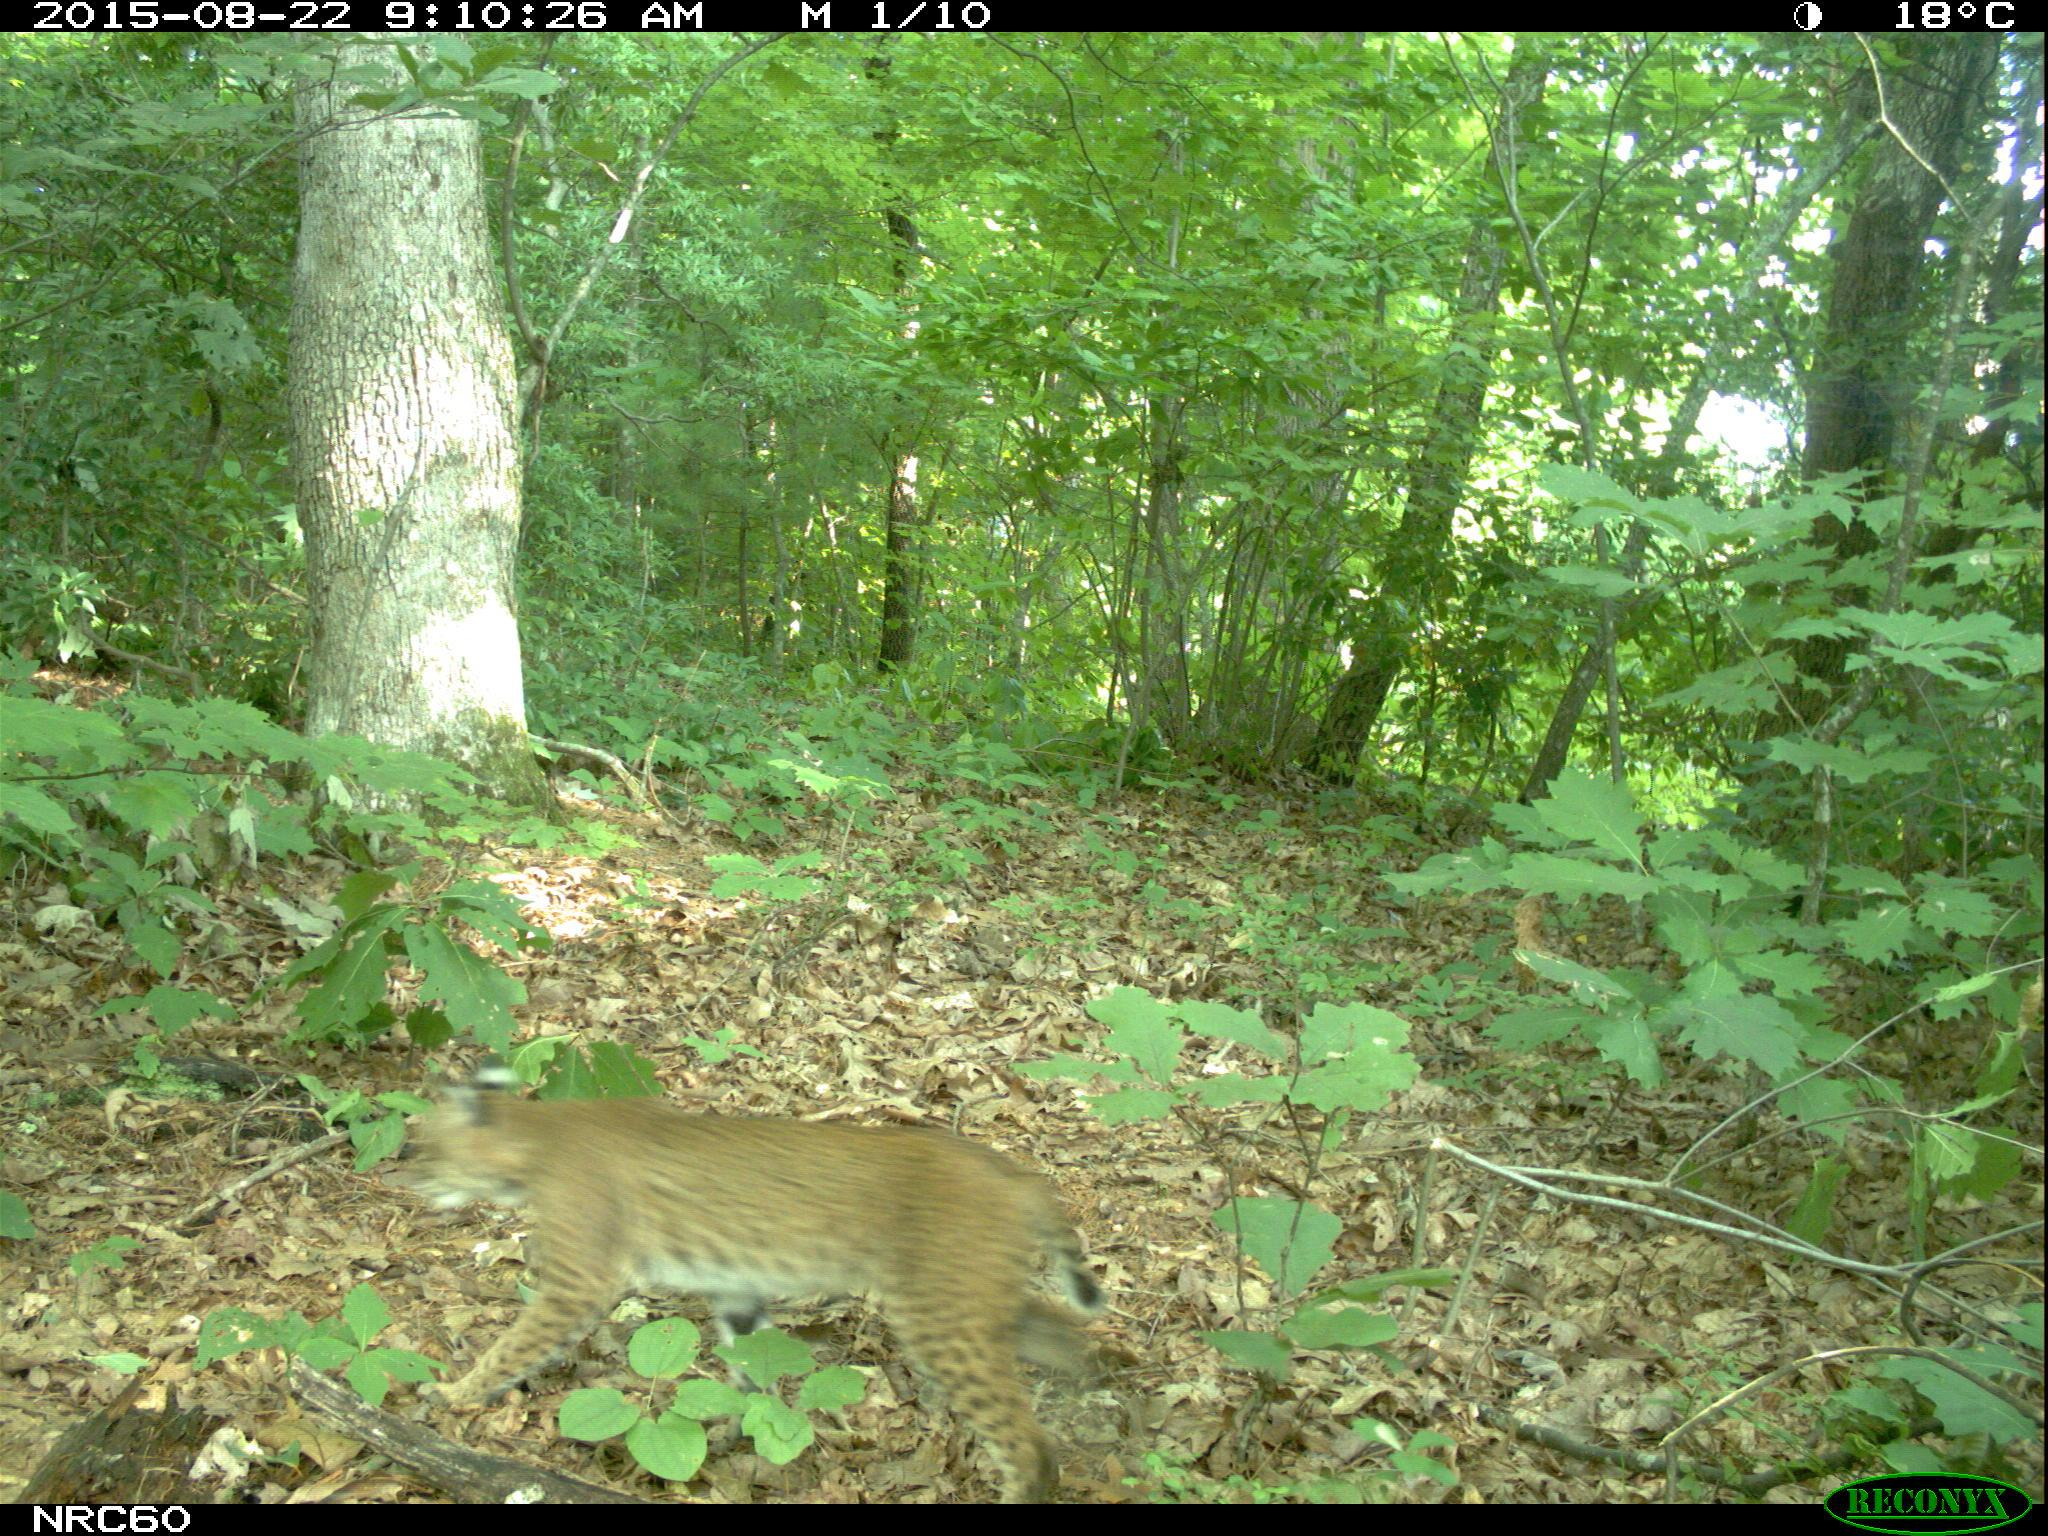Animal: (423, 1055, 1105, 1501)
